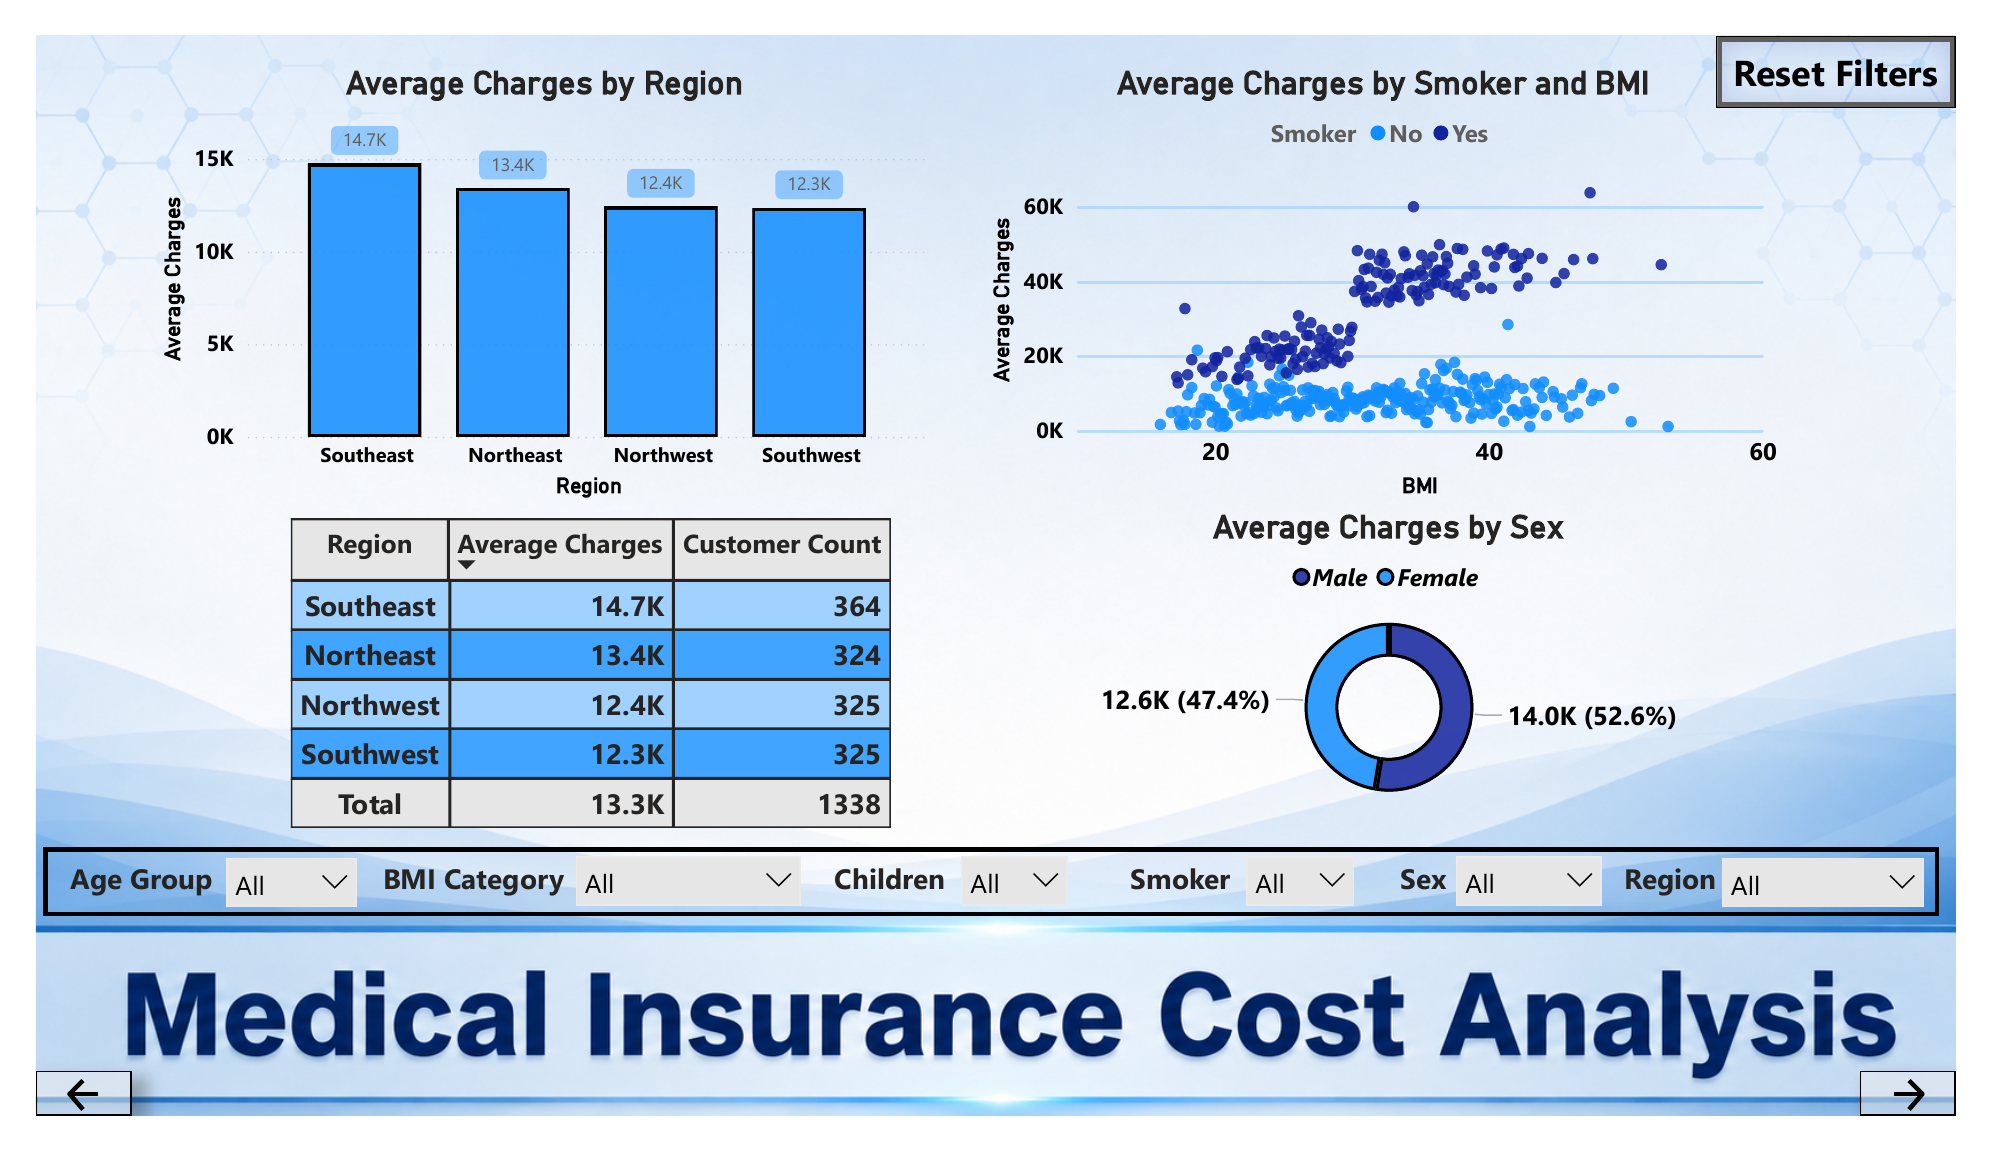

Layout of this report page (visuals, bound fields, positions):
{"tool":"powerbi","page":{"name":"Cost Drivers","canvas":[1280,720],"ordinal":2},"visuals":[{"type":"scatterChart","fields":{"Series":["insurance.Smoker"],"X":["insurance.BMI"],"Y":["insurance.Average Charges"]},"box":[631.5,18.7,534.5,294.5],"z":0},{"type":"clusteredColumnChart","fields":{"Y":["insurance.Average Charges"],"Category":["insurance.Region"]},"box":[78.2,19.2,522.8,293.7],"z":1000},{"type":"pivotTable","fields":{"Rows":["insurance.Region","insurance.Sex","insurance.Smoker","insurance.BMI Category"],"Values":["insurance.Average Charges","insurance.Customer Count"]},"box":[164.7,317,414.4,220.9],"z":2000},{"type":"donutChart","fields":{"Category":["insurance.Sex"],"Y":["insurance.Average Charges"]},"box":[679.1,314.9,446,209.4],"z":3000},{"type":"actionButton","box":[1215.5,689.8,64.5,30.2],"z":4000},{"type":"actionButton","box":[0,689.8,64.5,30.2],"z":5000},{"type":"textbox","box":[5.5,540.7,1263.8,46.7],"z":5001},{"type":"slicer","title":"Age Group ","fields":{"Values":["insurance.Age Group"]},"box":[116.6,537.9,107,89.2],"z":5002},{"type":"slicer","title":"Age Group ","fields":{"Values":["insurance.BMI Category"]},"box":[349.9,536.5,170.2,89.2],"z":5003},{"type":"slicer","title":"Age Group ","fields":{"Values":["insurance.Children"]},"box":[606.5,536.5,91.9,89.2],"z":5004},{"type":"slicer","title":"Age Group ","fields":{"Values":["insurance.Smoker"]},"box":[797.3,536.5,91.9,83.7],"z":5005},{"type":"slicer","title":"Age Group ","fields":{"Values":["insurance.Sex"]},"box":[937.2,536.5,116.6,89.2],"z":5006},{"type":"slicer","title":"Age Group ","fields":{"Values":["insurance.Region"]},"box":[1114.2,537.9,155.1,89.2],"z":5007},{"type":"actionButton","box":[1120,0,160,47.7],"z":5008}]}

Visuals, with their boxes in screenshot pixels (x1, y1, x2, y2), scaled from the page's 1280x720 canvas onto the 1992x1152 screenshot:
scatterChart - insurance.Smoker x insurance.BMI: 983/30/1815/501
clusteredColumnChart - insurance.Average Charges x insurance.Region: 122/31/935/501
pivotTable - insurance.Region x insurance.Sex: 256/507/901/861
donutChart - insurance.Sex x insurance.Average Charges: 1057/504/1751/839
actionButton: 1892/1104/1991/1151
actionButton: 0/1104/100/1151
textbox: 9/865/1975/940
"Age Group " slicer: 181/861/348/1003
"Age Group " slicer: 545/858/809/1001
"Age Group " slicer: 944/858/1087/1001
"Age Group " slicer: 1241/858/1384/992
"Age Group " slicer: 1459/858/1640/1001
"Age Group " slicer: 1734/861/1975/1003
actionButton: 1743/0/1991/76
